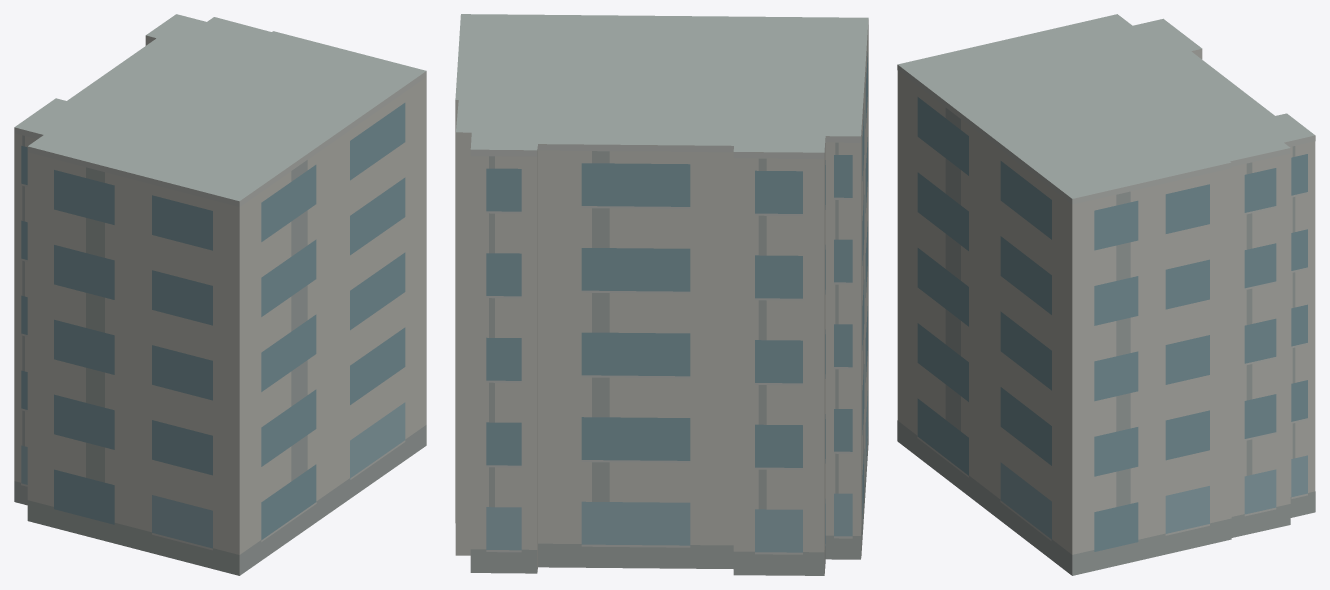
Rendered from survey-upis-32736844.glb.
3 views of the same model, side by side, from view 1: azimuth 30°, elevation 25°; view 2: azimuth 150°, elevation 25°; view 3: azimuth 270°, elevation 25° (orthographic). The views are drawn at different scales.
Visible parts, largest first — view 1: survey-upis-32736844.tmp; view 2: survey-upis-32736844.tmp; view 3: survey-upis-32736844.tmp.
Boxes of the visible parts, x1,y1,x2,y2 form: survey-upis-32736844.tmp: [14, 14, 426, 575]; survey-upis-32736844.tmp: [455, 14, 868, 575]; survey-upis-32736844.tmp: [897, 14, 1315, 575].
Bounding box in the file's own units: 16.53 × 15.7 × 15.78.
